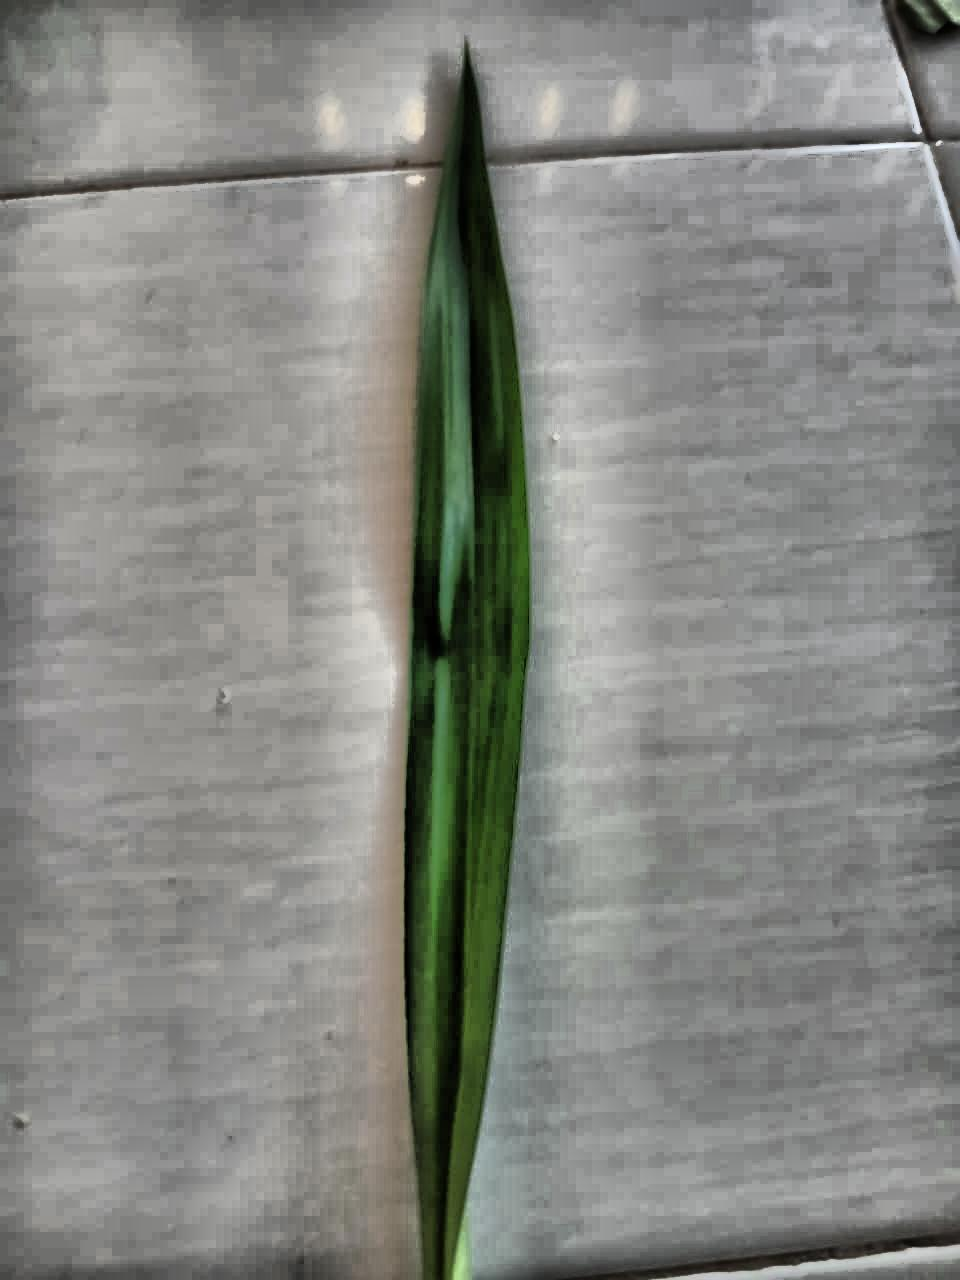daun pandan: (403, 49, 530, 1279)
